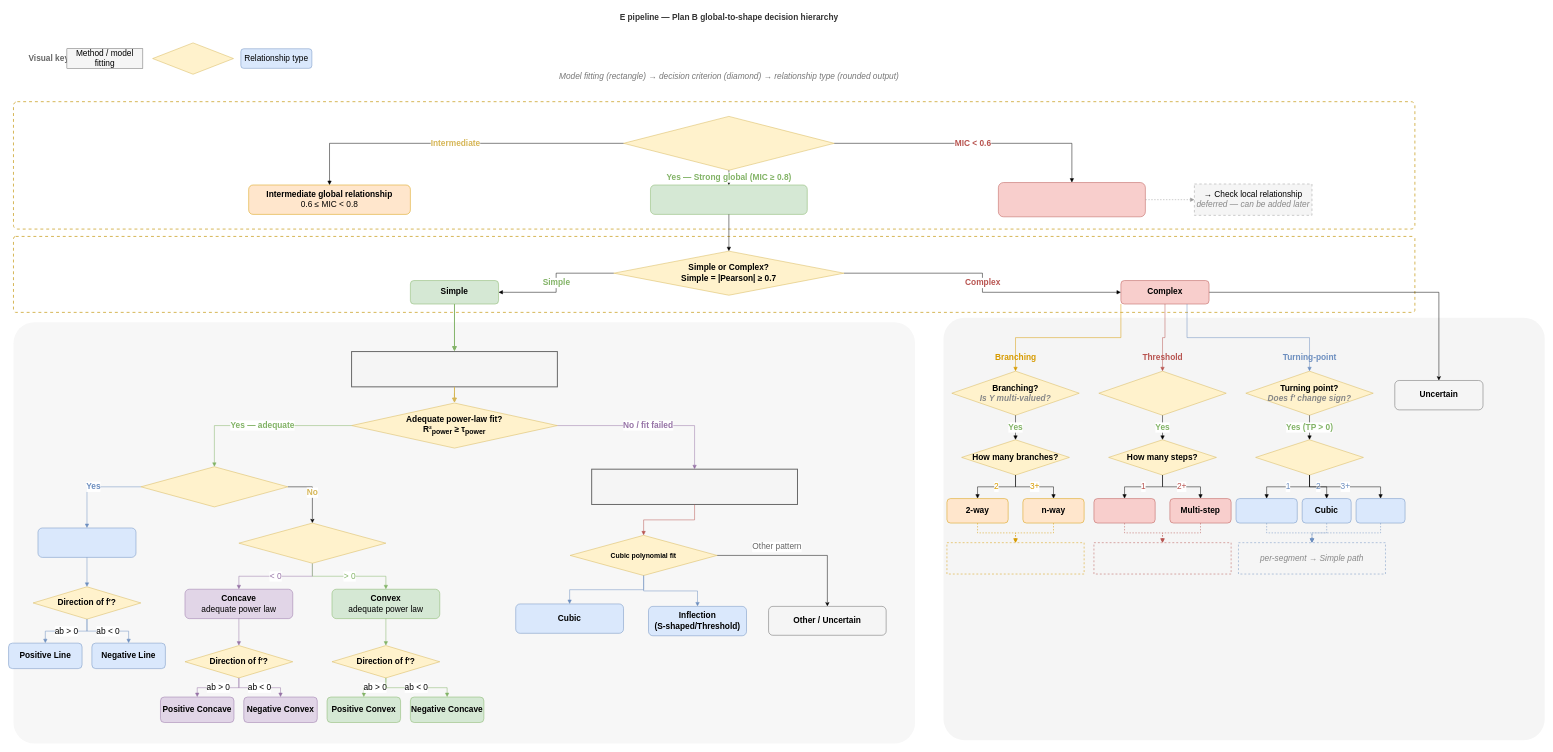
Some shapes in this 1553 by 752 pixel diagram are drawn without their labels. Each missing label, with the box of its shape:
Curvature sign? a·b·(b − 1): (238, 523, 386, 563)
Decision / criterion: (152, 42, 233, 74)
Has global relationship? relationship strength from MIC: (623, 116, 834, 170)
How many turning points?: (1255, 439, 1363, 475)
Linear: (37, 527, 136, 557)
Linear? |b − 1| ≤ 0.05: (140, 466, 288, 507)
No global relationship / Noisy MIC < 0.6: (998, 182, 1145, 217)
Oscillatory: (1356, 498, 1405, 523)
Other / Uncertain no adequate supported shape: (591, 468, 798, 505)
per-branch → recurse each branch walks Simple or Complex: (946, 542, 1084, 574)
per-segment → recurse step location + step size: (1093, 542, 1231, 574)
Power-law fit f(x) = a·x b + c: (351, 351, 558, 387)
Single step: (1093, 498, 1155, 523)
Strong global relationship MIC ≥ 0.8 — primary analysis: (650, 184, 807, 214)
Threshold? Discontinuity present?: (1098, 371, 1226, 415)
U / Inv-U / Spike: (1236, 498, 1297, 523)
